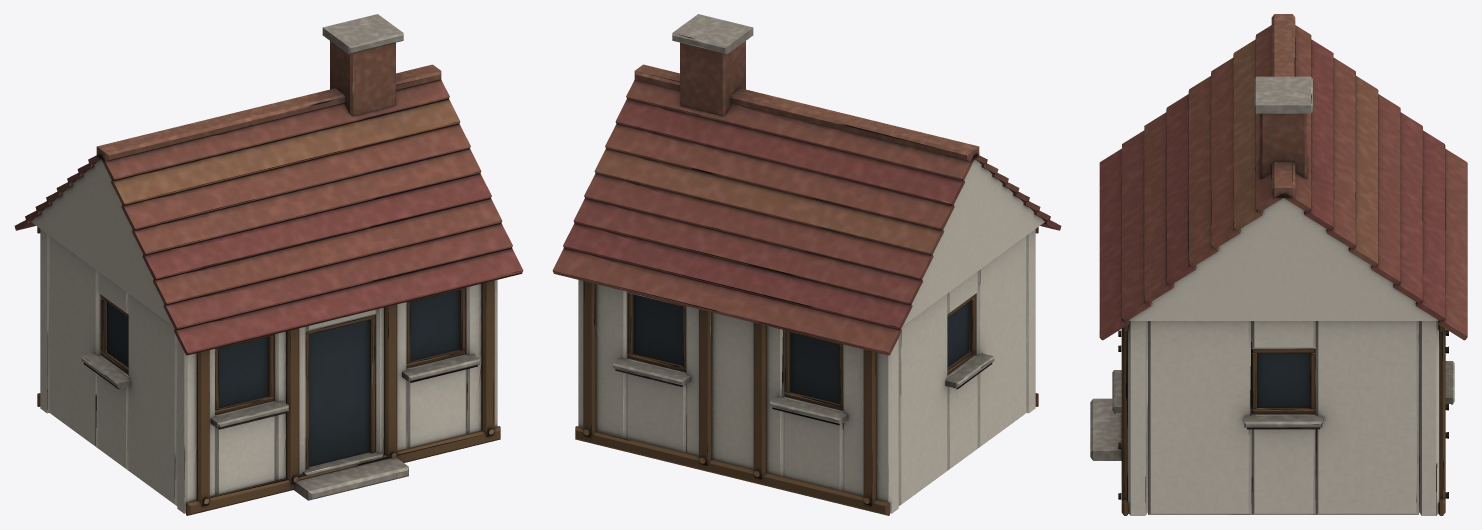
The model's file is timber-cottage-t3.glb.
3 renders of one model, left to right at view 1: azimuth 30°, elevation 25°; view 2: azimuth 150°, elevation 25°; view 3: azimuth 270°, elevation 25°, orthographic. The views are drawn at different scales.
Parts seen in each view (by area): view 1: hero; view 2: hero; view 3: hero.
Part boxes in pixels (x1,y1,x2,y2): hero: [14, 14, 523, 515]; hero: [552, 14, 1061, 515]; hero: [1090, 14, 1467, 515].
Bounding box in the file's own units: 4.54 × 4.73 × 4.12.
Materials: 1 (1 with a texture image).
